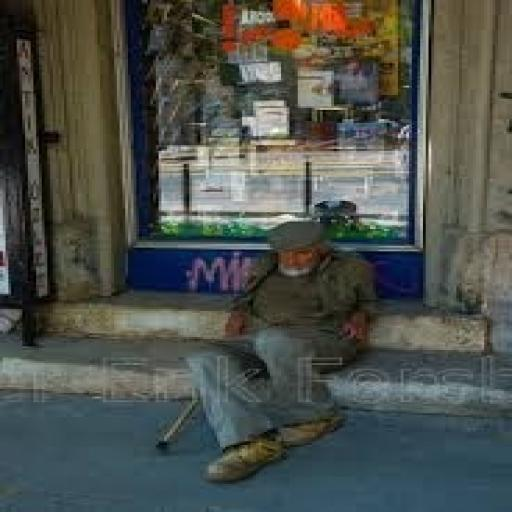sleeping: (181, 218, 384, 484)
